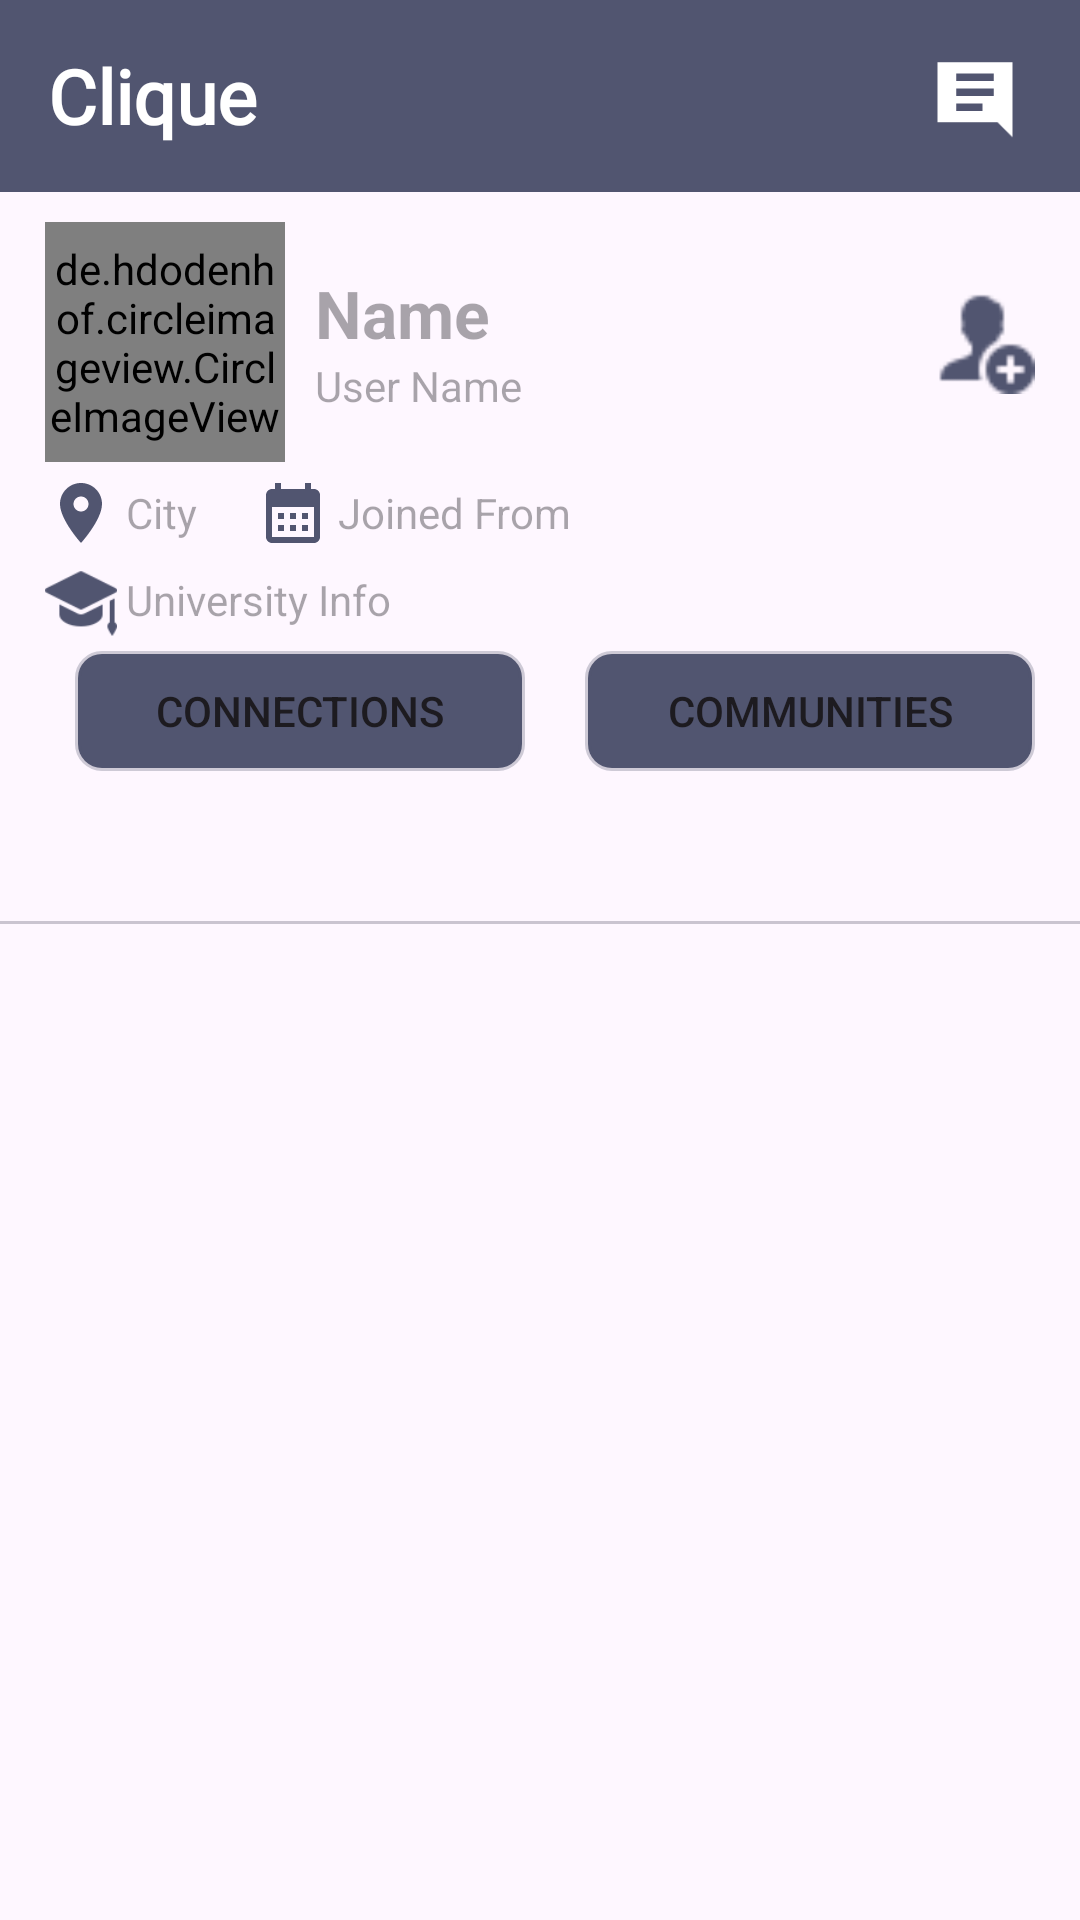

Where to tap for icons on this 1080*1920 app screen, as point (x, y):
add friend: point (987, 344)
education: point (81, 603)
join date: point (293, 513)
location: point (81, 513)
message: point (975, 99)
